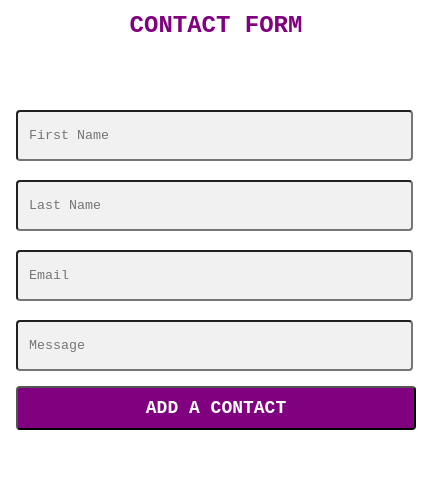
Test: Contact form validation › to Validate - First & Last Name
In the field with placeholder "Email": (214, 275) left=16, top=250, right=413, bottom=301, type "Entered wrong email"
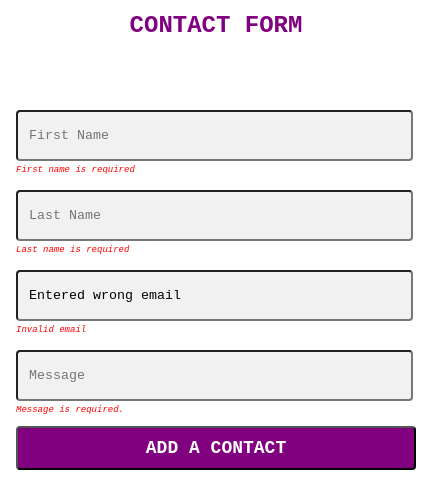
Result: the text "First name is required" is shown at left=16, top=165, right=135, bottom=175
Result: the text "Last name is required" is shown at left=16, top=245, right=129, bottom=255
